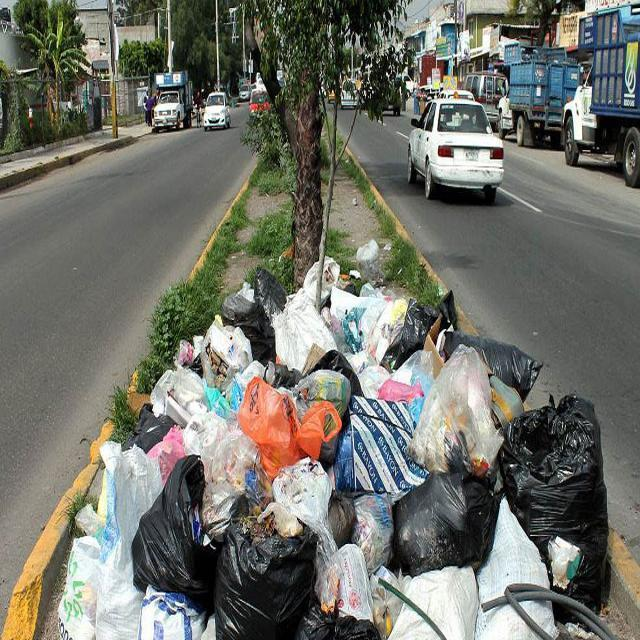high trash: (59, 258, 611, 640)
